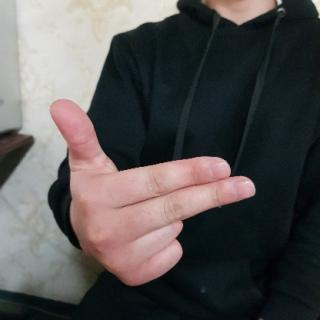GHAYN: (47, 96, 276, 289)
